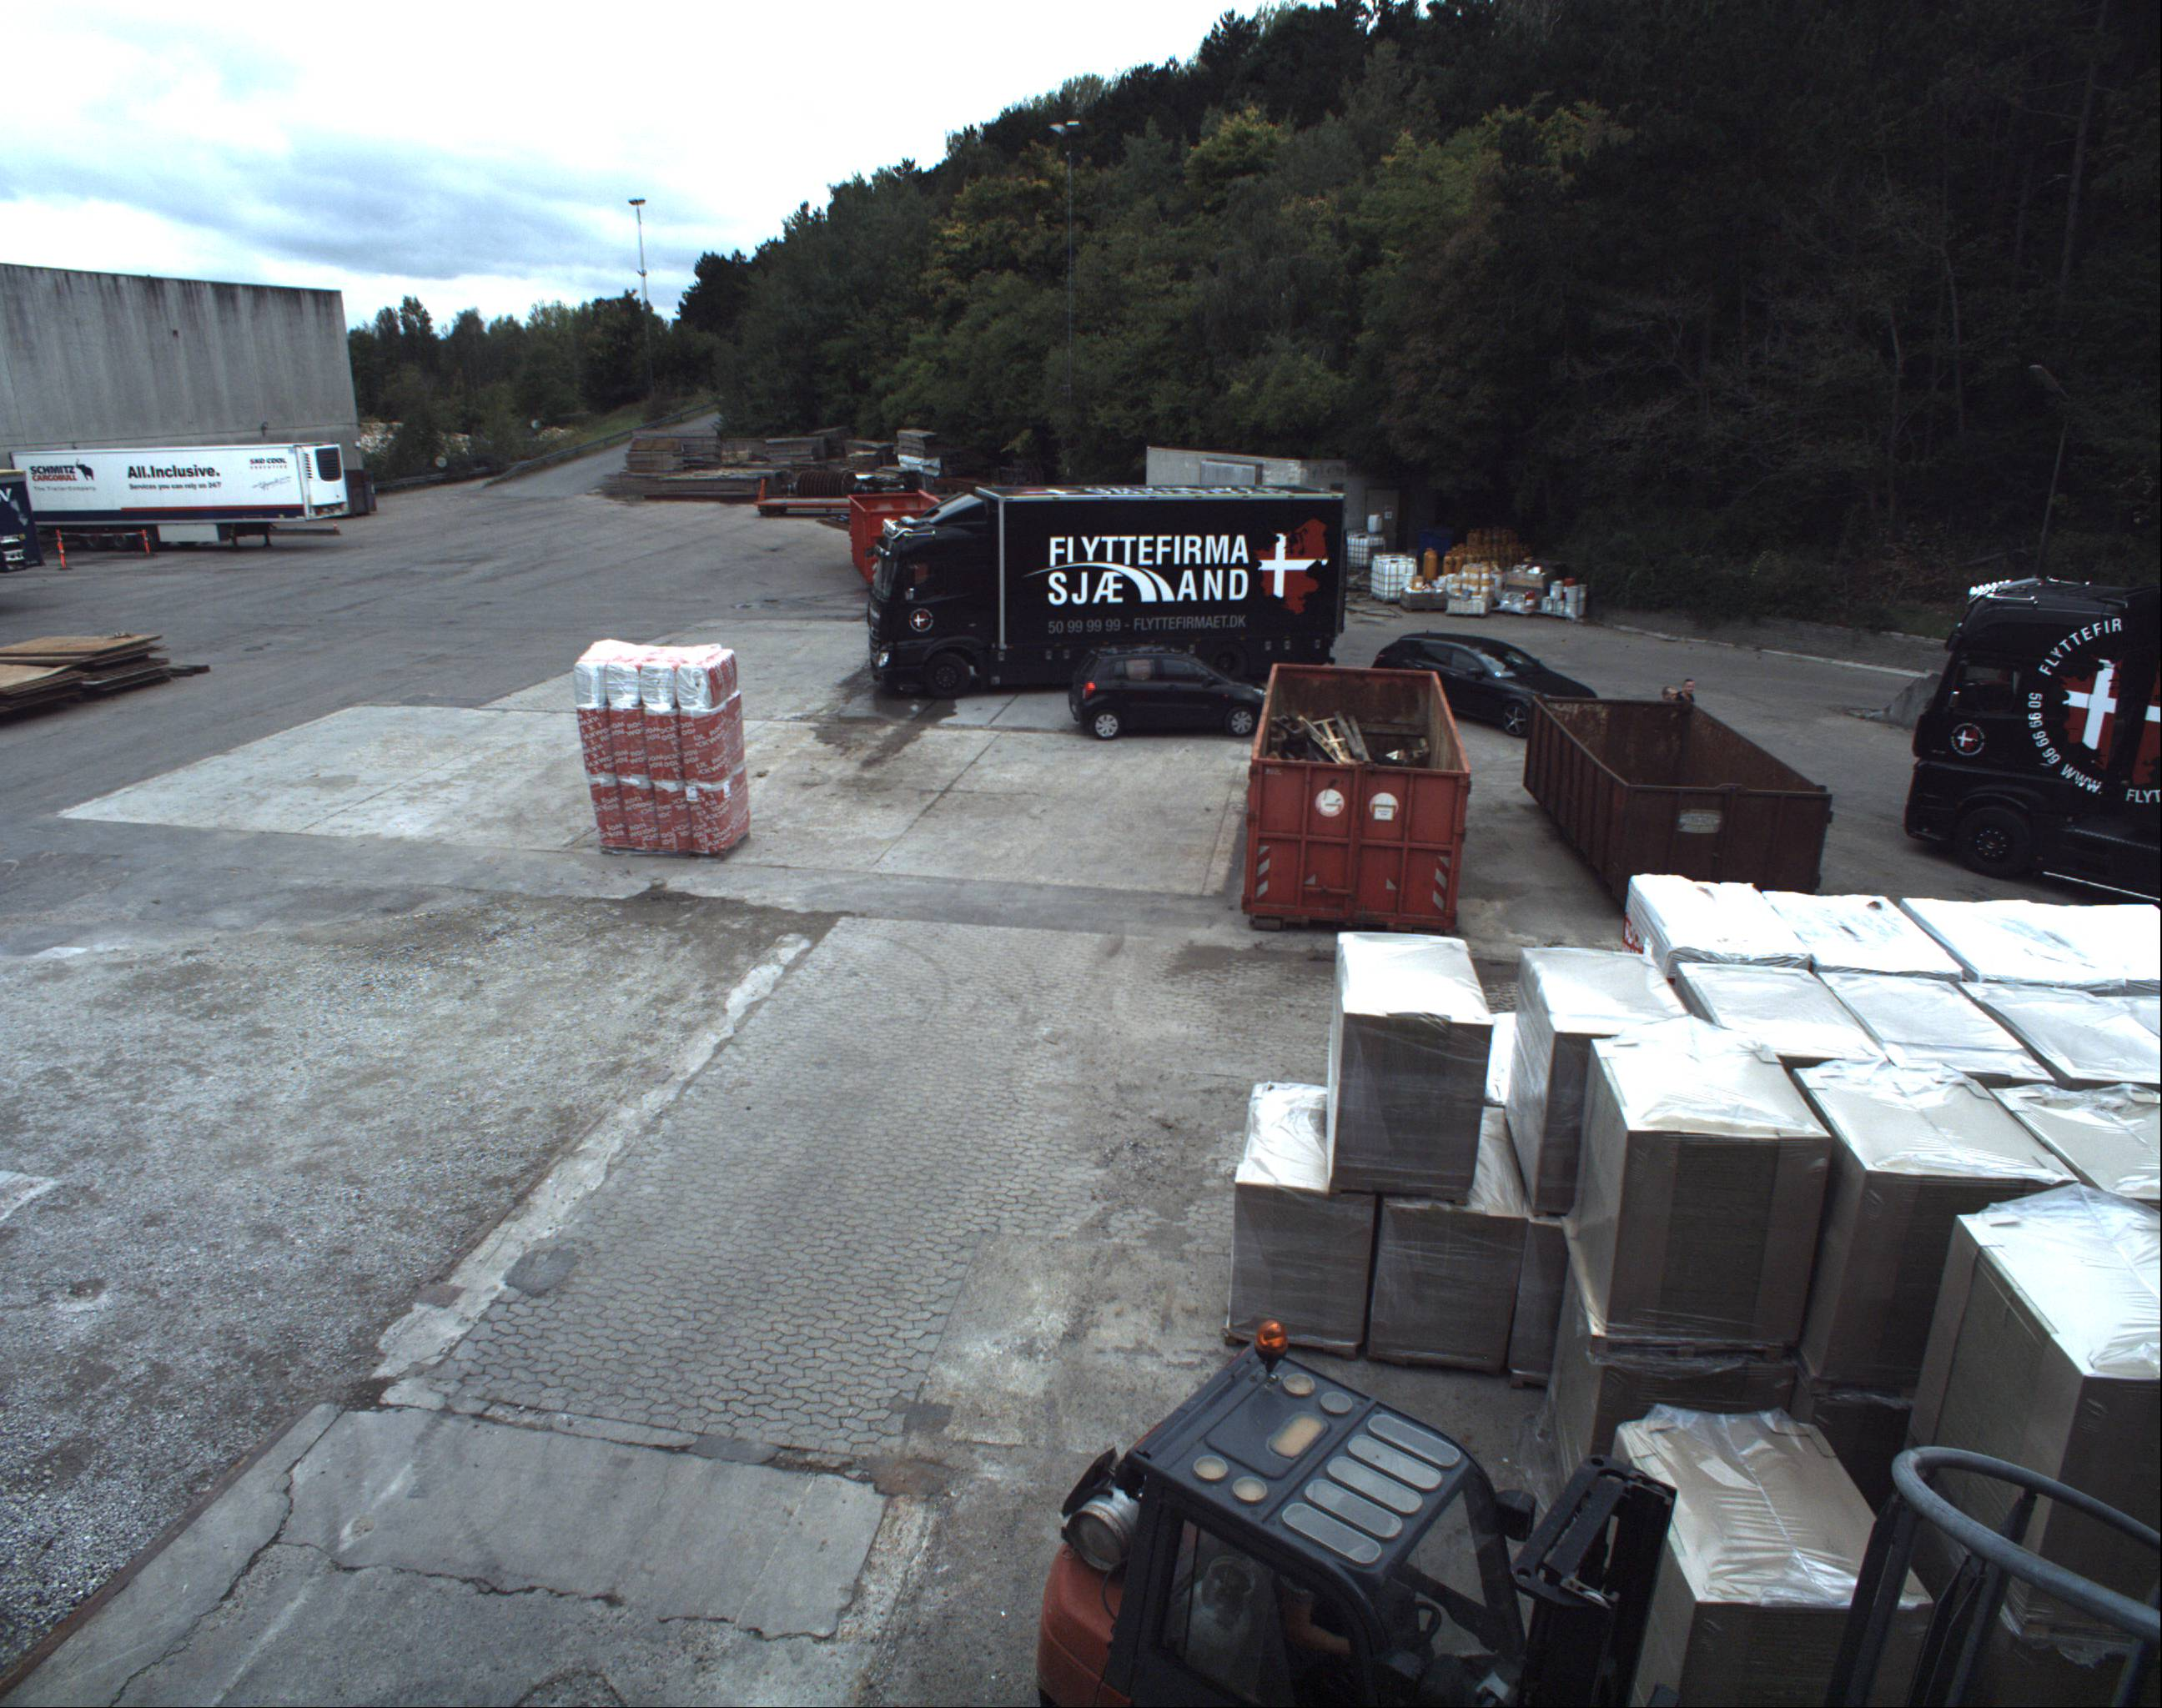rockwool_batts: (577, 625, 756, 848)
